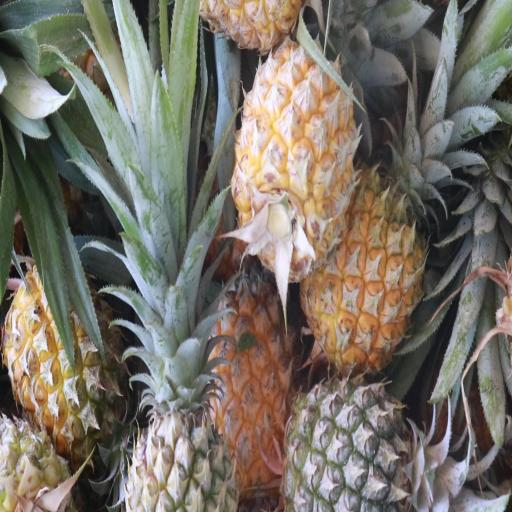------------------------------: (3, 257, 123, 449)
Pineapple - v8 v1: (234, 45, 353, 281), (303, 168, 423, 368), (207, 262, 296, 488)
